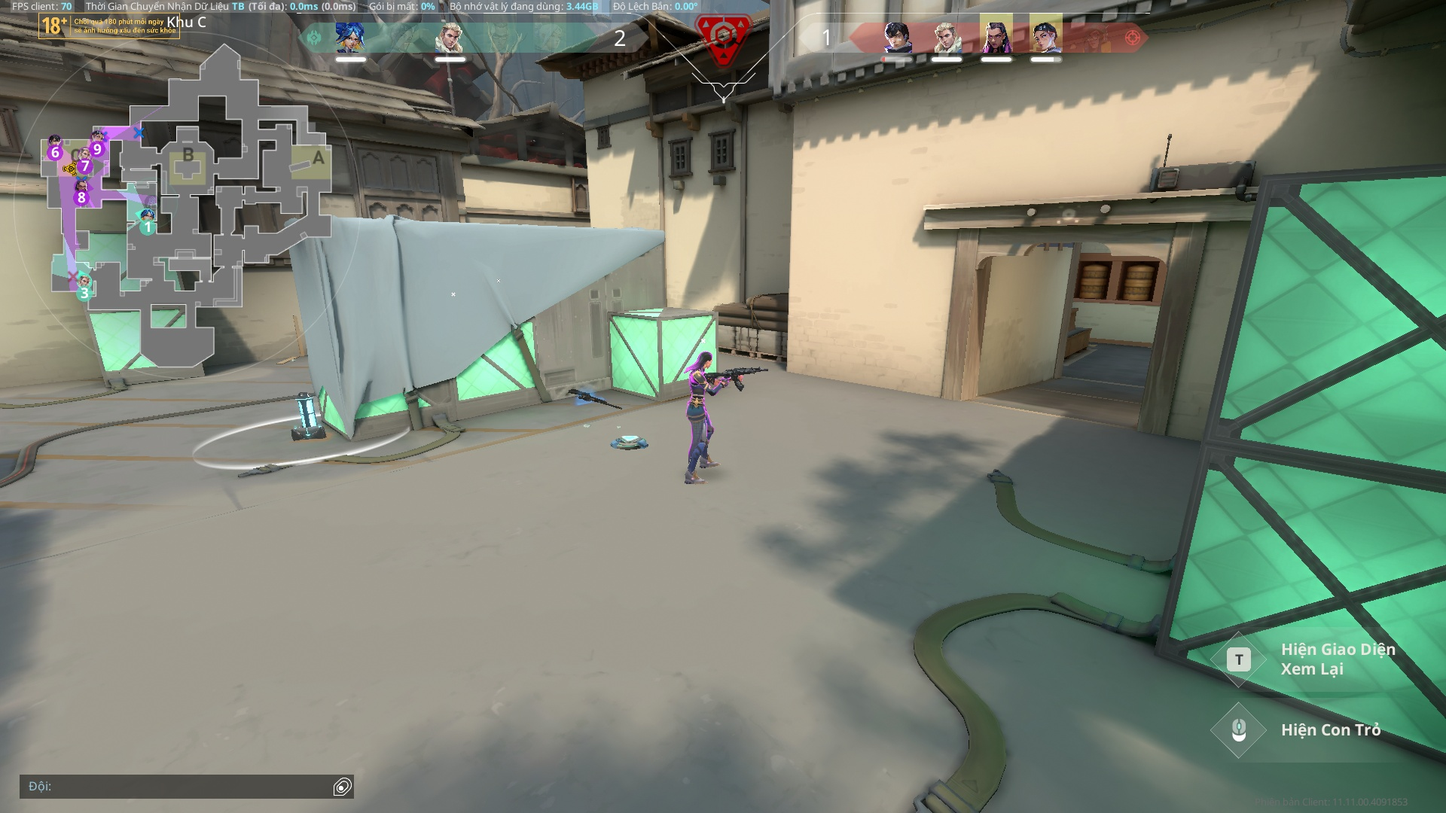body: (688, 366, 706, 400)
head: (697, 350, 712, 367)
